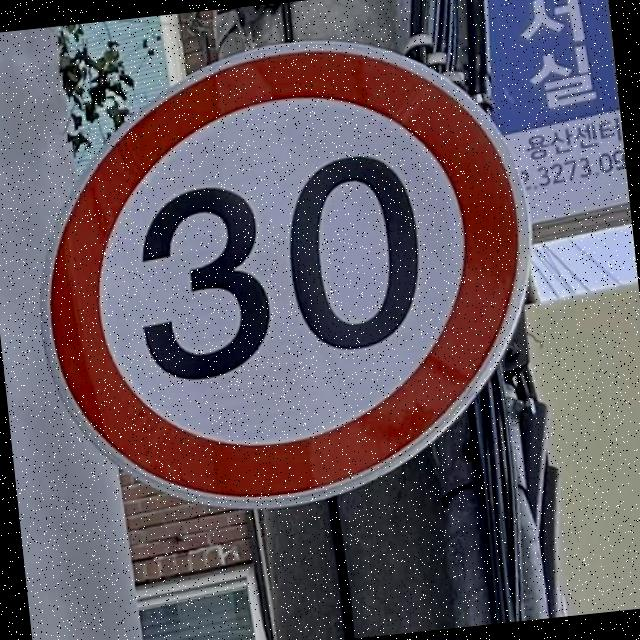Ograniczenie predkosci do 30: (14, 15, 558, 535)
